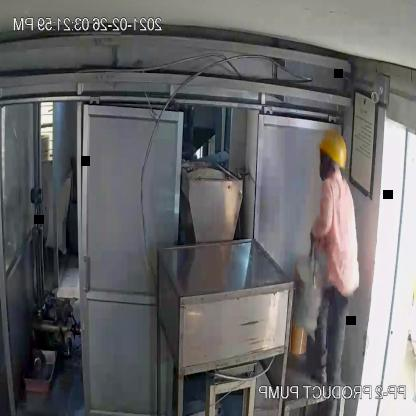helmet: (319, 123, 352, 168)
